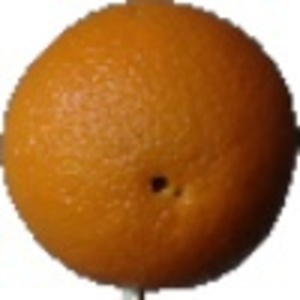laranja: (2, 2, 296, 298)
